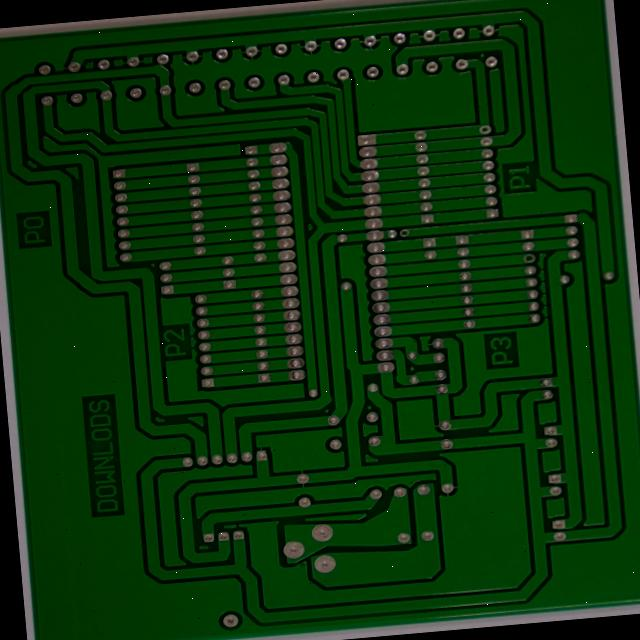missing_hole: (456, 136, 477, 151), (507, 275, 527, 290), (365, 250, 385, 262)
